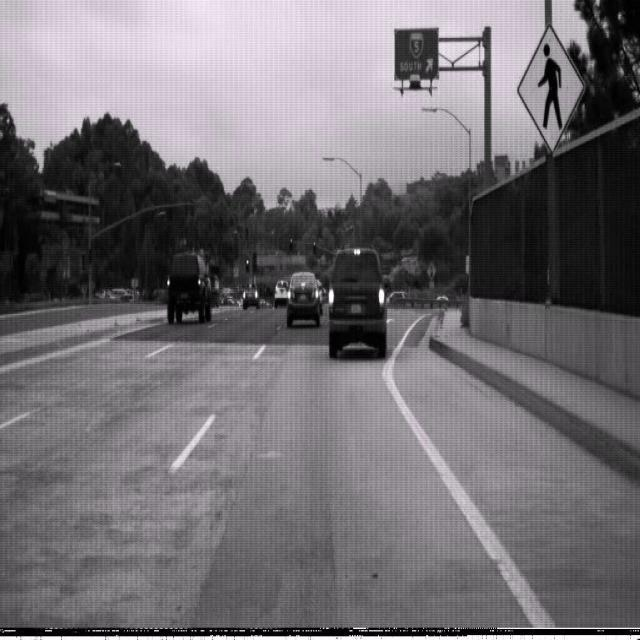pedestrianCrossing: (516, 21, 585, 153)
